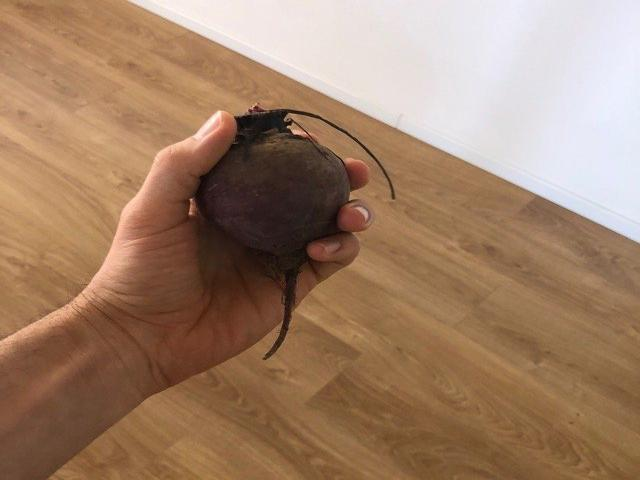beet: (196, 104, 397, 358)
